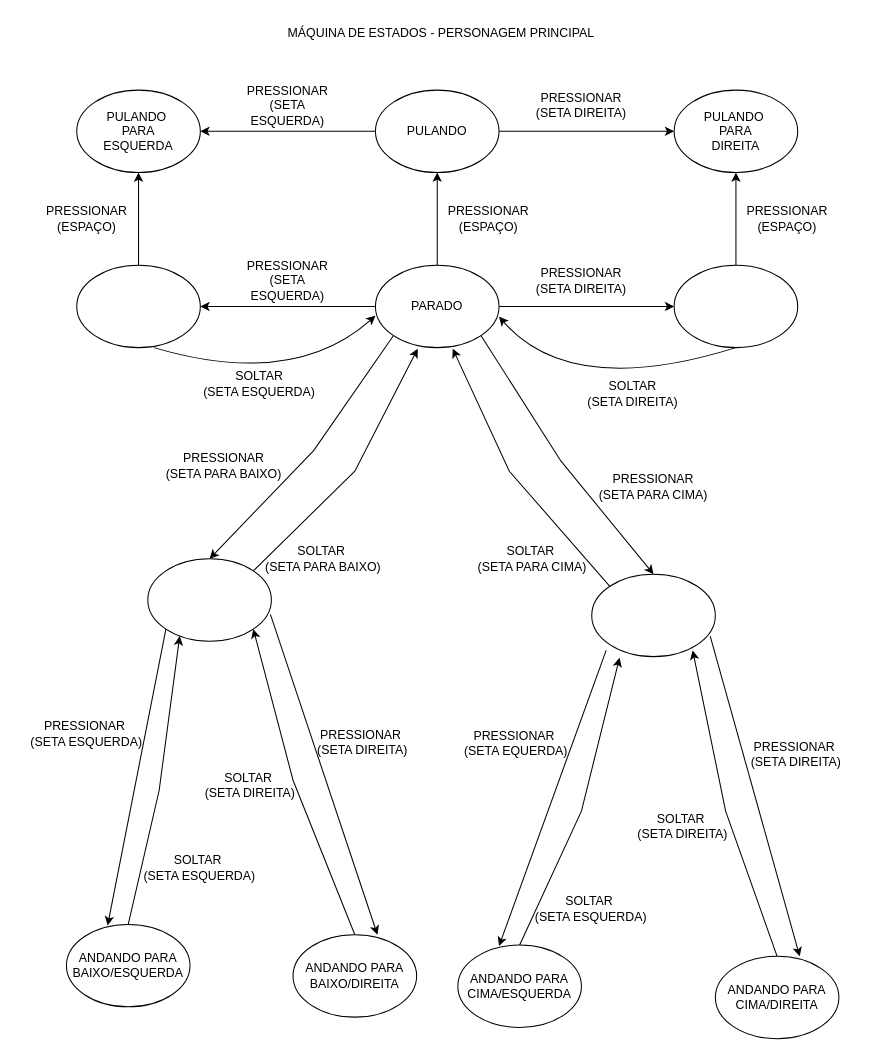
Some shapes in this 879 by 1057 pixel diagram are drawn without their labels. The centre of each missing label's shape, as x and y in pixels:
"ANDANDO PARA BAIXO" goes at pixel 209 599.
"ANDANDO PARA CIMA" goes at pixel 653 615.
"ANDANDO PARA DIREITA" goes at pixel 735 306.
"ANDANDO PARA ESQUERDA" goes at pixel 138 306.
